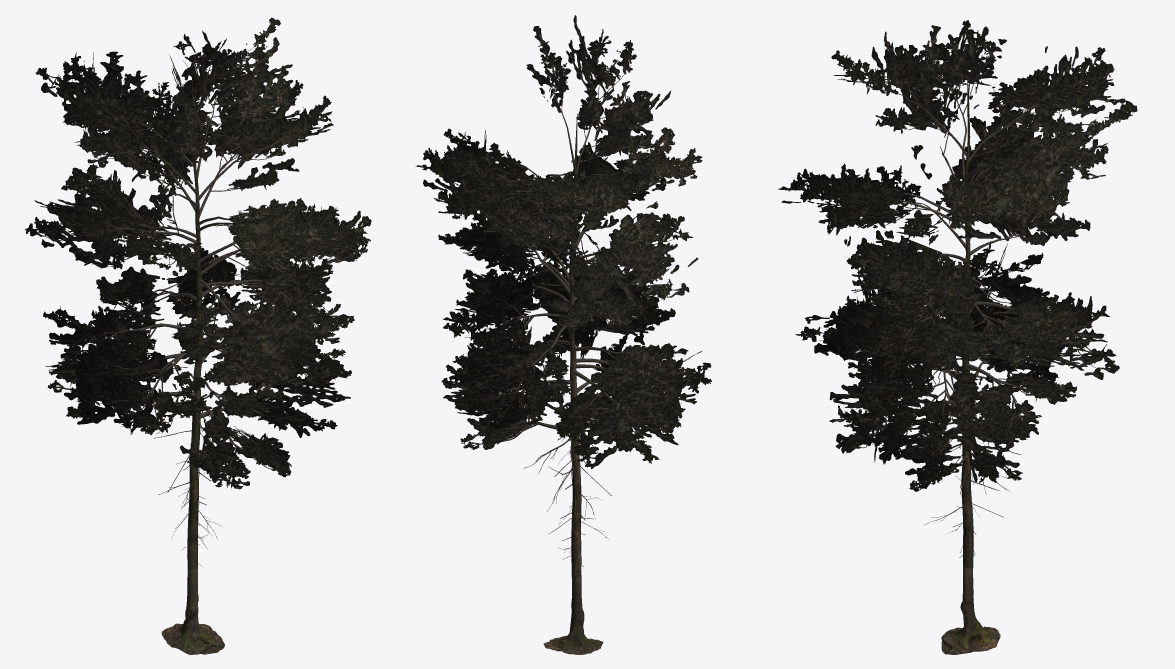
The model's file is tree.gltf.
3 renders of one model, left to right at view 1: azimuth 30°, elevation 25°; view 2: azimuth 150°, elevation 25°; view 3: azimuth 270°, elevation 25°, orthographic. The views are drawn at different scales.
Parts seen in each view (by area): view 1: pine_b, pine_b_far; view 2: pine_b, pine_b_far; view 3: pine_b, pine_b_far.
Part boxes in pixels (<box>): pine_b: <box>24,17,371,654</box>; pine_b_far: <box>34,30,367,482</box>; pine_b: <box>415,26,711,654</box>; pine_b_far: <box>423,15,701,468</box>; pine_b: <box>778,20,1132,654</box>; pine_b_far: <box>781,20,1137,482</box>.
Bounding box in the file's own units: 7.44 × 14.89 × 8.38.
Materials: 4 (4 with a texture image).
